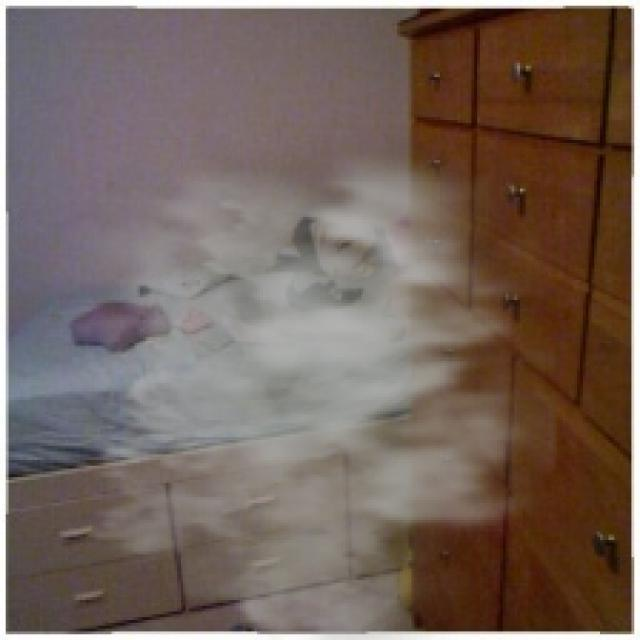Smoke: (34, 122, 560, 638)
